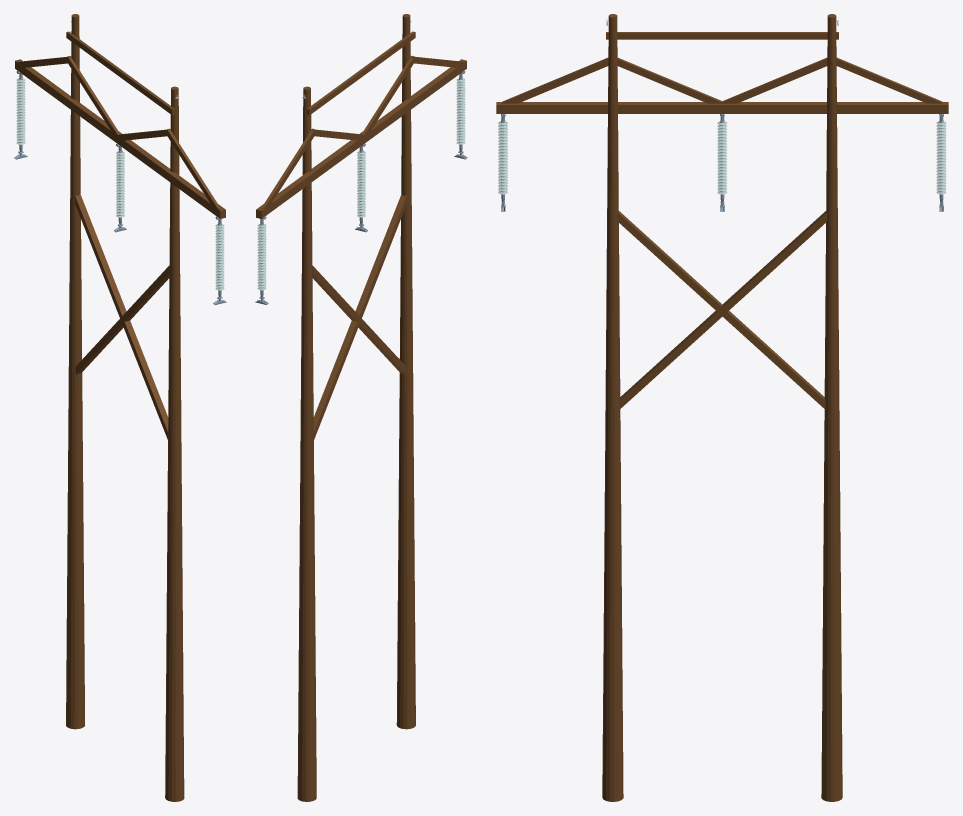
3 views of the same model, side by side, from view 1: azimuth 30°, elevation 25°; view 2: azimuth 150°, elevation 25°; view 3: azimuth 270°, elevation 25° (orthographic). The views are drawn at different scales.
Visible parts, largest first — view 1: WoodPole_Cylinder01, Brace_CrossArm, RegularCrossArm_CrossArm, BellInsulator_Cylinder01; view 2: WoodPole_Cylinder01, Brace_CrossArm, RegularCrossArm_CrossArm, BellInsulator_Cylinder01; view 3: WoodPole_Cylinder01, Brace_CrossArm, RegularCrossArm_CrossArm.
Part boxes in pixels (x1,y1,x2,y2): WoodPole_Cylinder01: [66, 14, 184, 801]; Brace_CrossArm: [17, 56, 220, 439]; RegularCrossArm_CrossArm: [15, 31, 225, 218]; BellInsulator_Cylinder01: [19, 77, 221, 288]; WoodPole_Cylinder01: [297, 14, 415, 801]; Brace_CrossArm: [261, 56, 464, 439]; RegularCrossArm_CrossArm: [256, 31, 466, 218]; BellInsulator_Cylinder01: [260, 77, 462, 288]; WoodPole_Cylinder01: [602, 14, 842, 801]; Brace_CrossArm: [502, 57, 942, 409]; RegularCrossArm_CrossArm: [496, 32, 948, 113].
Size of the model in its own units: 1.67 by 61 by 32.
